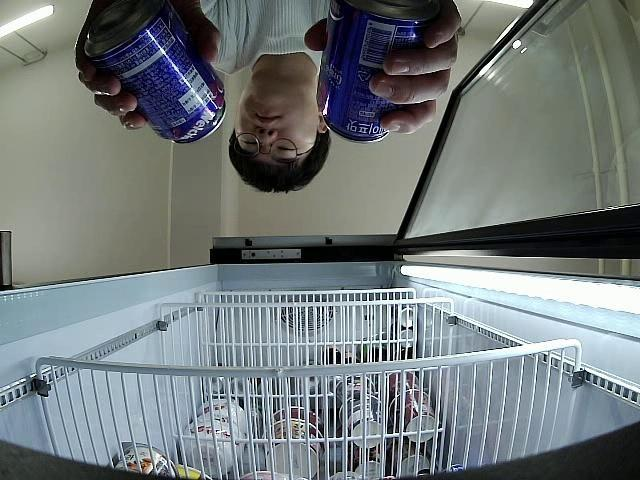14_welchsGrape: (84, 3, 228, 146), (317, 0, 430, 145)
